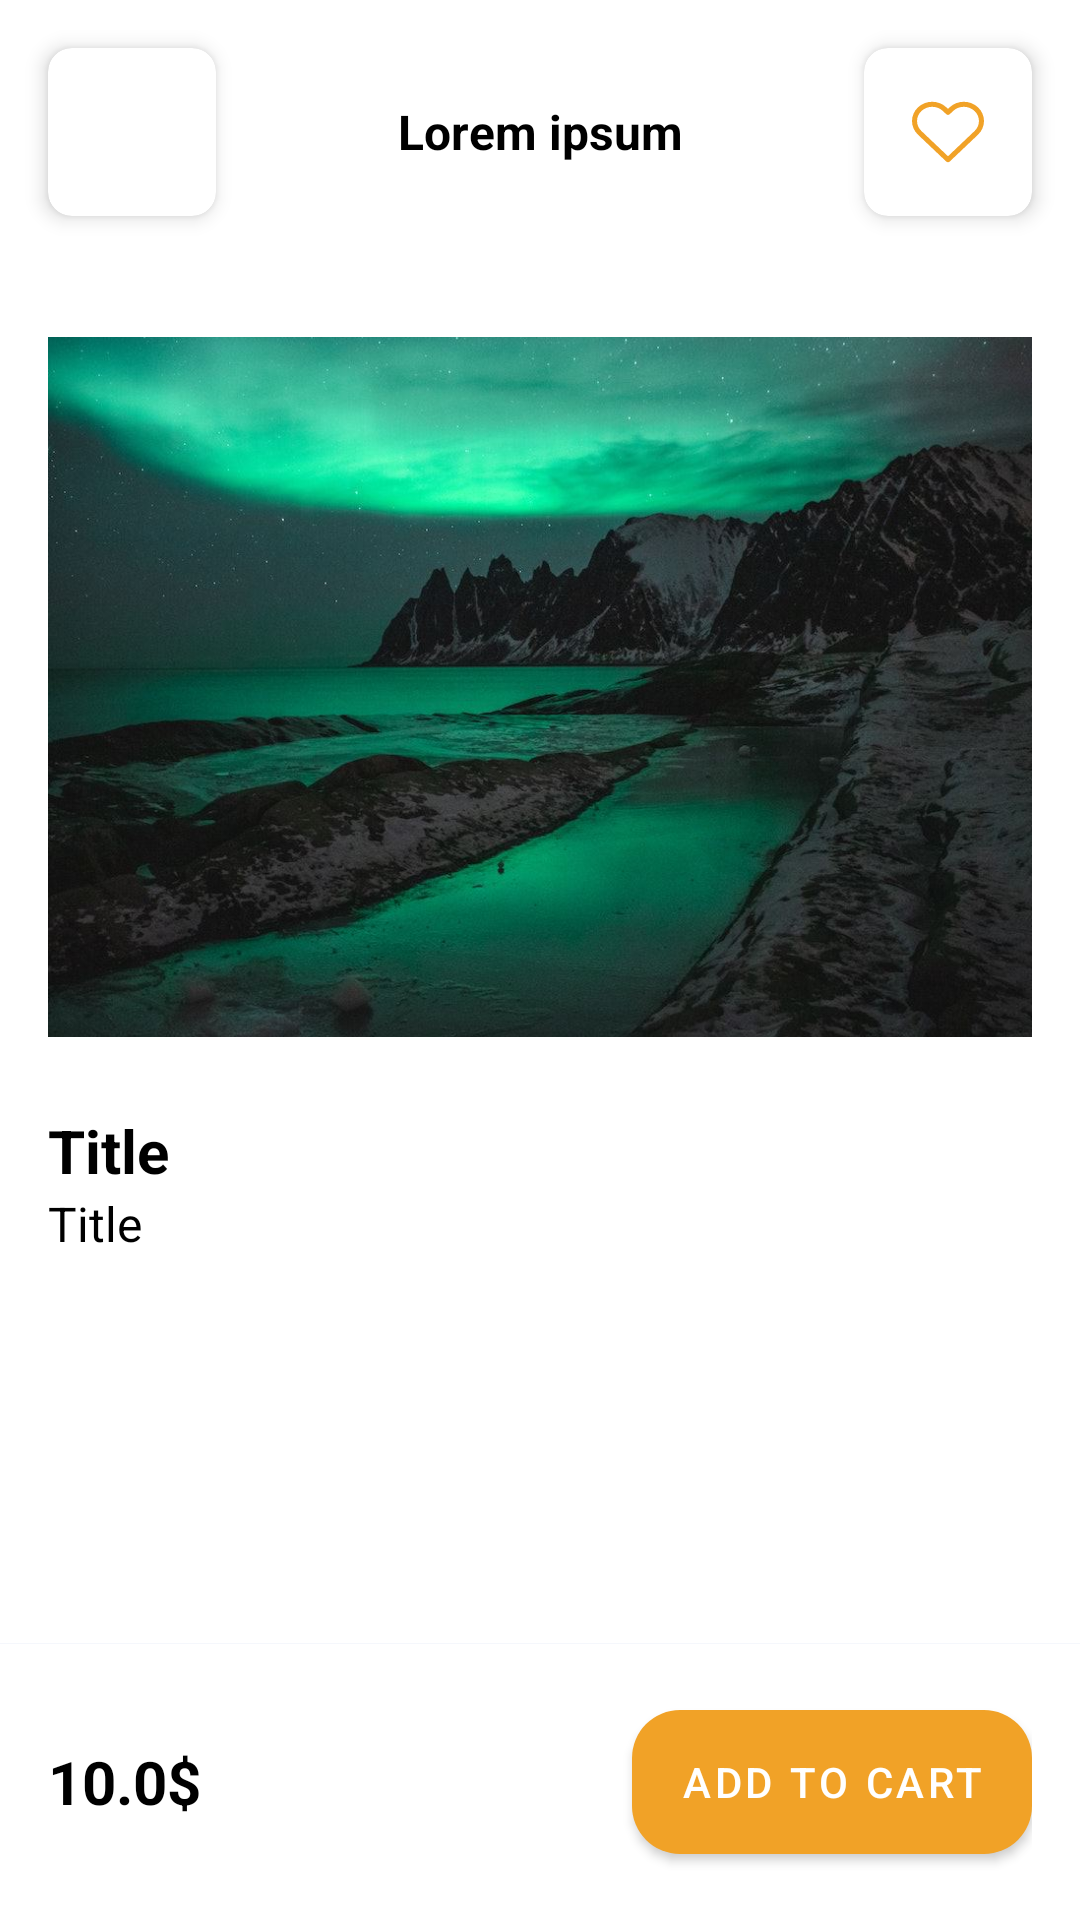

Named icons in this screenshot (1080*1920) and their bounding boxes, [x1=x1, y1=y1, x2=x2, y2=y2]:
love: [x1=912, y1=101, x2=984, y2=163]
